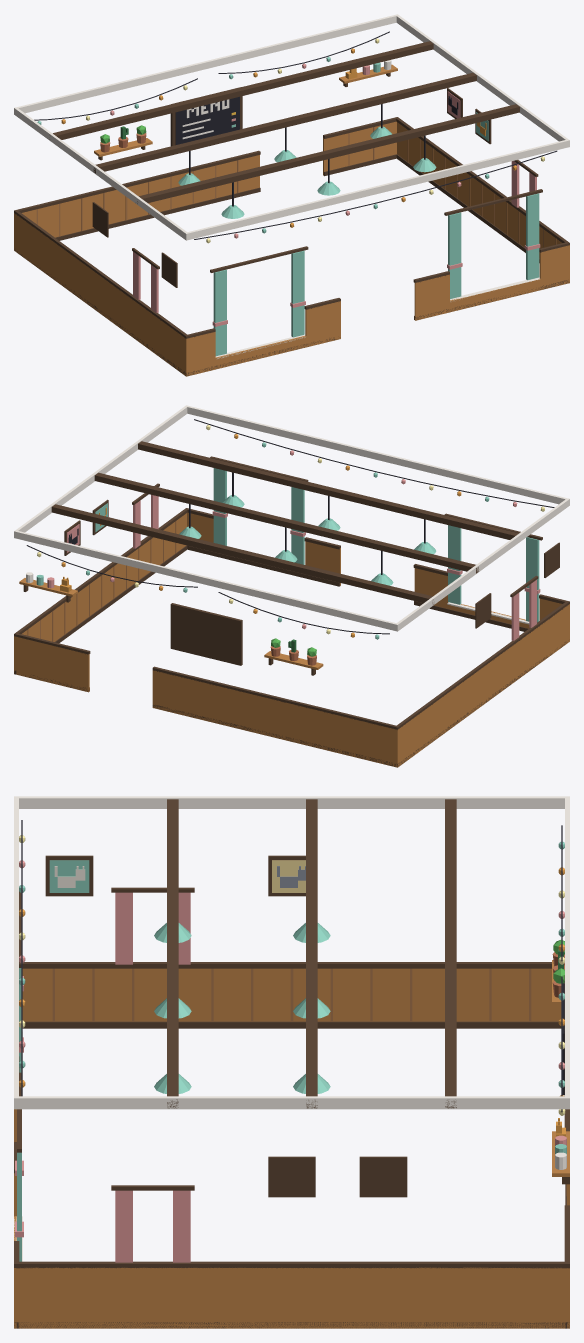
File: CatCafe_Plot_Interior.glb
The picture shows the model from 3 angles, top to bottom: view 1: azimuth 30°, elevation 25°; view 2: azimuth 150°, elevation 25°; view 3: azimuth 270°, elevation 25°; orthographic projection. The views are drawn at different scales.
Visible parts, largest first — view 1: CatCafe_Plot_Interior, CatCafe_Plot_Interior_StringLights_Bulbs; view 2: CatCafe_Plot_Interior, CatCafe_Plot_Interior_StringLights_Bulbs; view 3: CatCafe_Plot_Interior, CatCafe_Plot_Interior_StringLights_Bulbs.
Part boxes in pixels (<box>): CatCafe_Plot_Interior: <box>14,14,569,376</box>; CatCafe_Plot_Interior_StringLights_Bulbs: <box>37,38,544,243</box>; CatCafe_Plot_Interior: <box>14,405,569,767</box>; CatCafe_Plot_Interior_StringLights_Bulbs: <box>37,425,544,639</box>; CatCafe_Plot_Interior: <box>14,796,569,1328</box>; CatCafe_Plot_Interior_StringLights_Bulbs: <box>19,835,565,1115</box>.
Size of the model in its own units: 36 by 12.8 by 28.
1 material, 1 textured.
